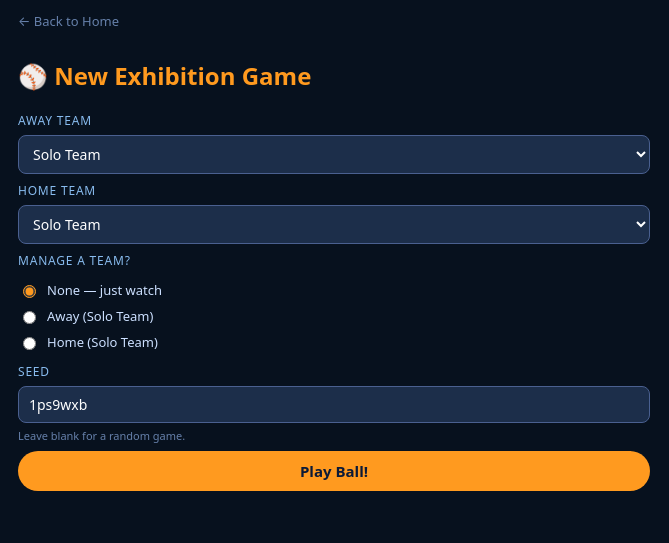
ExhibitionSetupPage › shows 'create more teams' error when exactly one custom team exists
Click the button with test id "play-ball-button" at point(334, 471), box [18, 451, 650, 491]
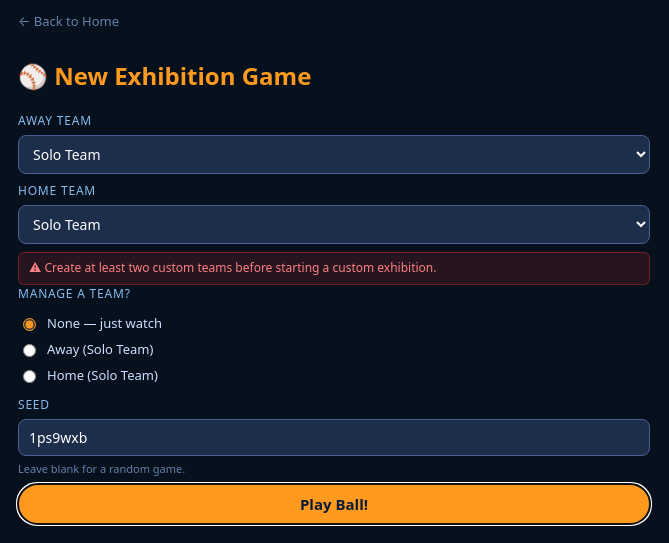
Expected: the message with test id "team-validation-error" shows "Create at least two custom teams", [44, 259, 436, 276]
